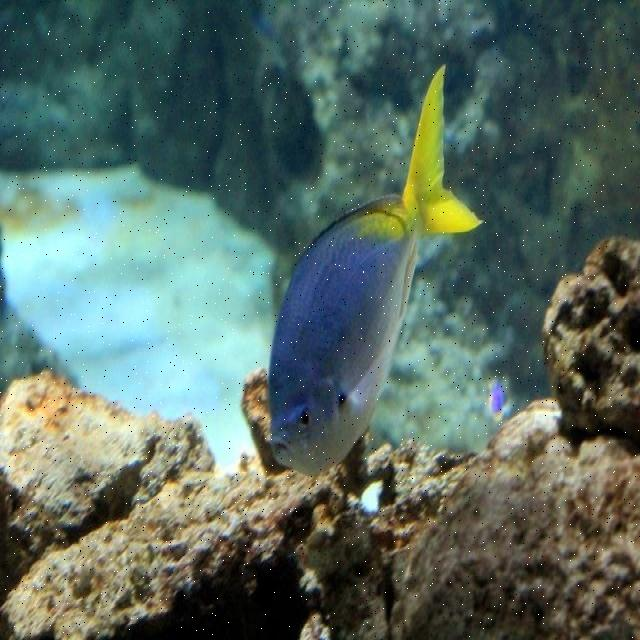fish: (267, 65, 487, 480)
sea-floor: (0, 237, 639, 639)
